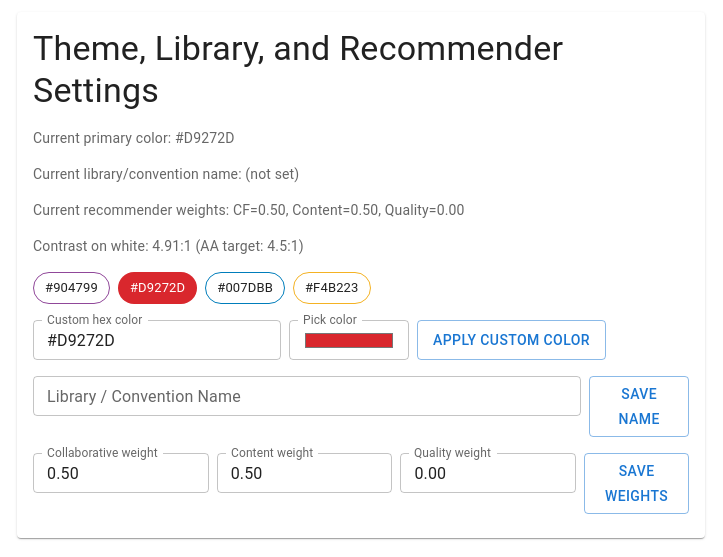
Test: AdminThemePage › allows saving and clearing library/convention name
Expected: the text "Current library/convention name: (not set)" is shown, [33,166,299,182]
In the field labelled "Library / Convention Name": (307, 396) [33,376,581,416], type "PAX East"
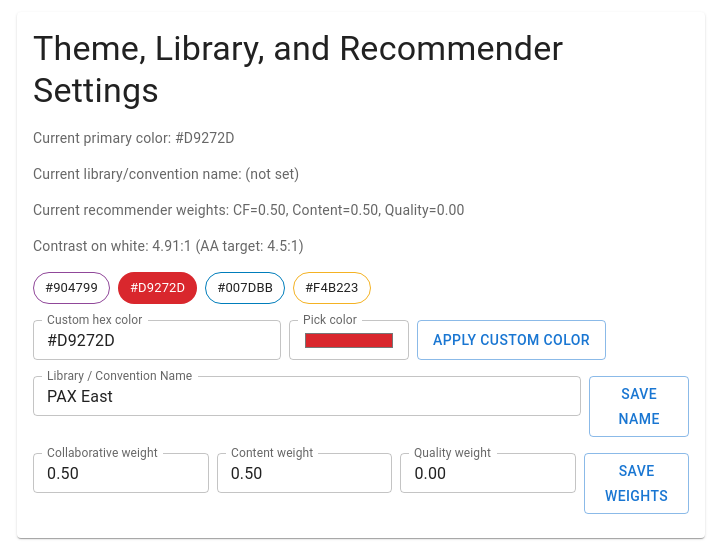
Click the button "Save Name": (639, 406) [589,376,689,437]
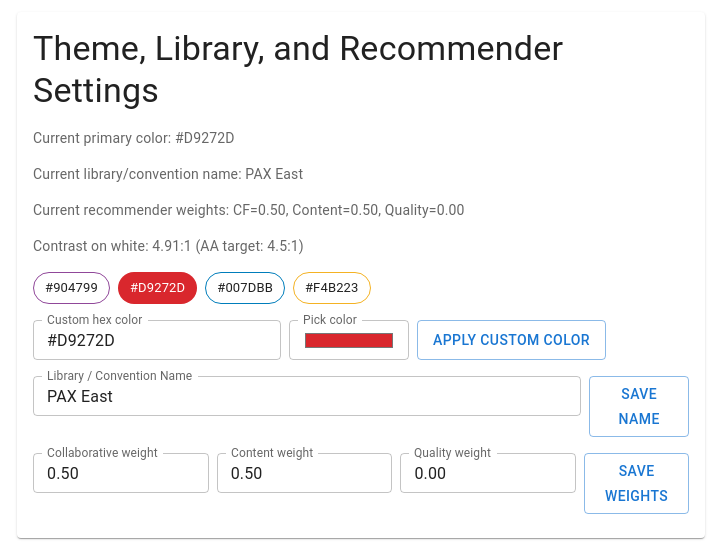
Now the text "Current library/convention name: PAX East" is shown, box [33,166,303,182]
Clear the field labelled "Library / Convention Name": (307, 396) [33,376,581,416]
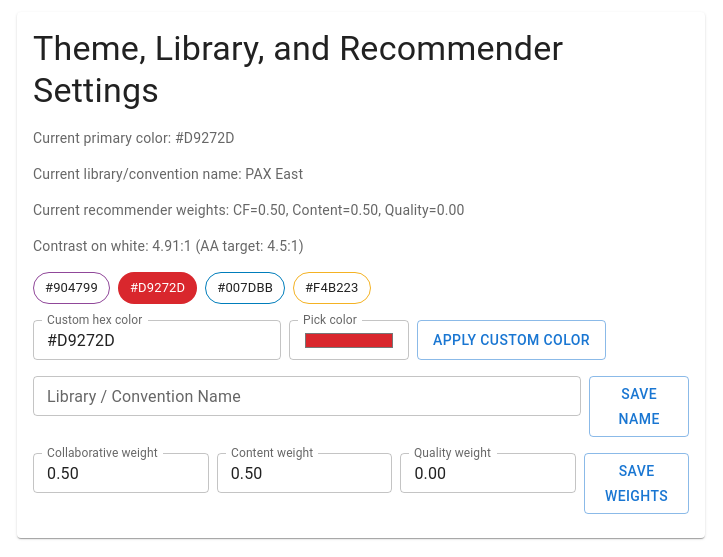
Click the button "Save Name": (639, 406) [589,376,689,437]
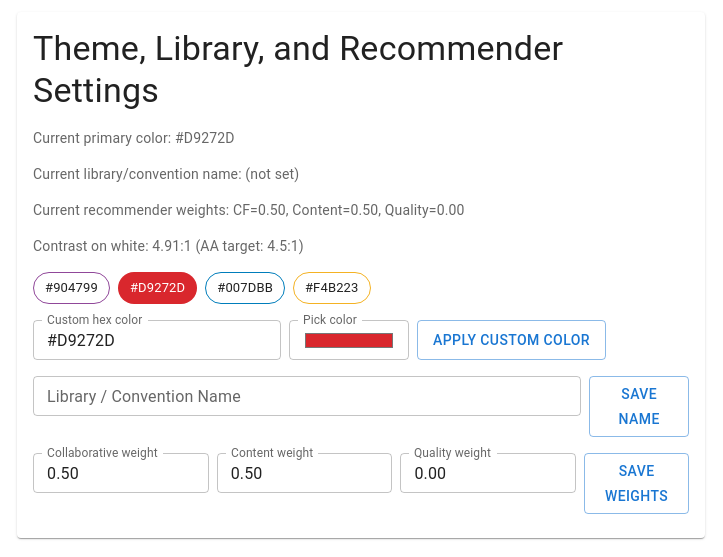
Now the text "Current library/convention name: (not set)" is shown, box [33,166,299,182]
